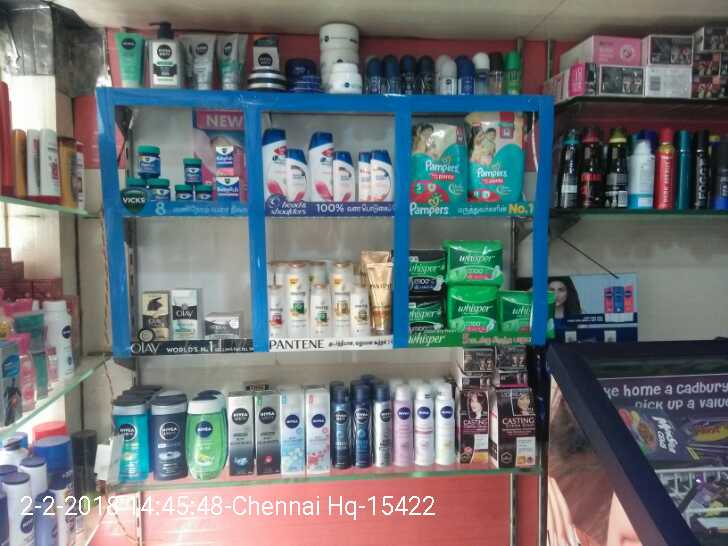vicks: (133, 136, 242, 201)
